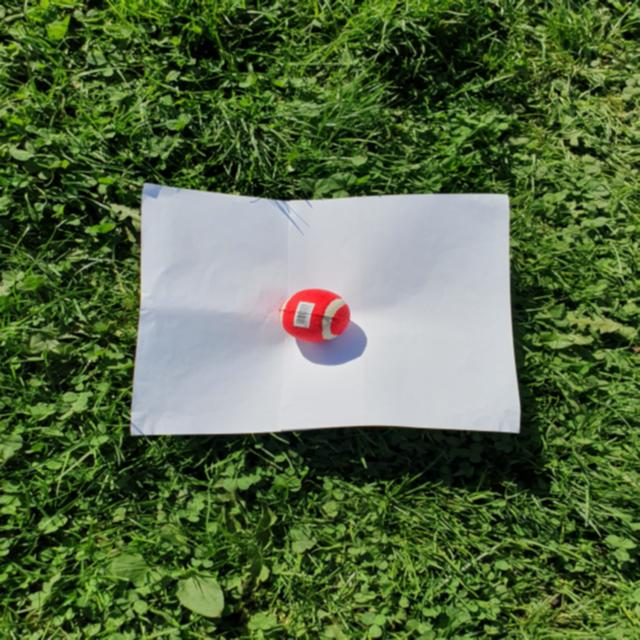red: (278, 287, 352, 343)
